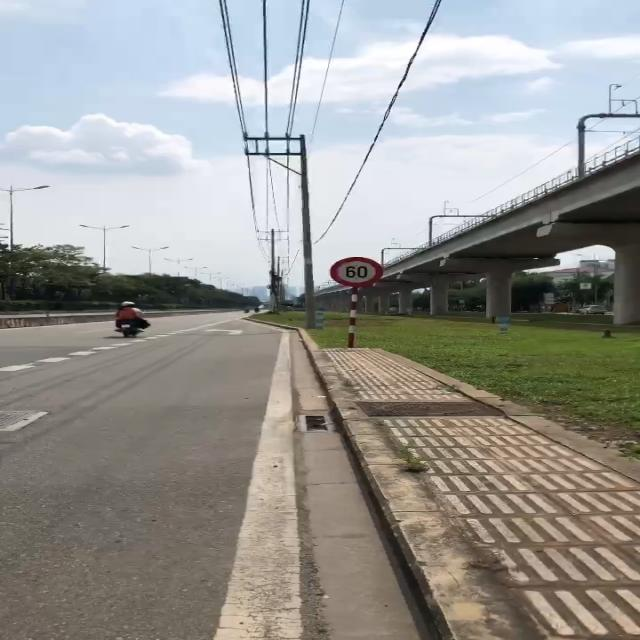Bien bao toc do toi da cho phep: (327, 254, 389, 291)
